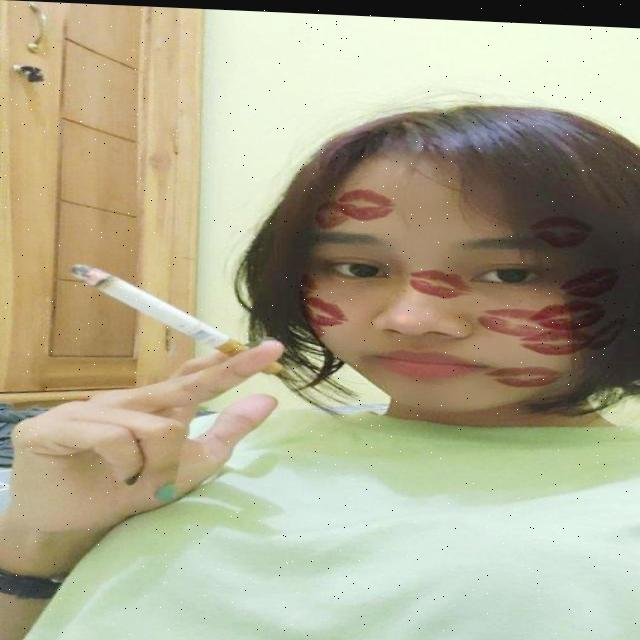cigarette: (70, 260, 290, 376)
